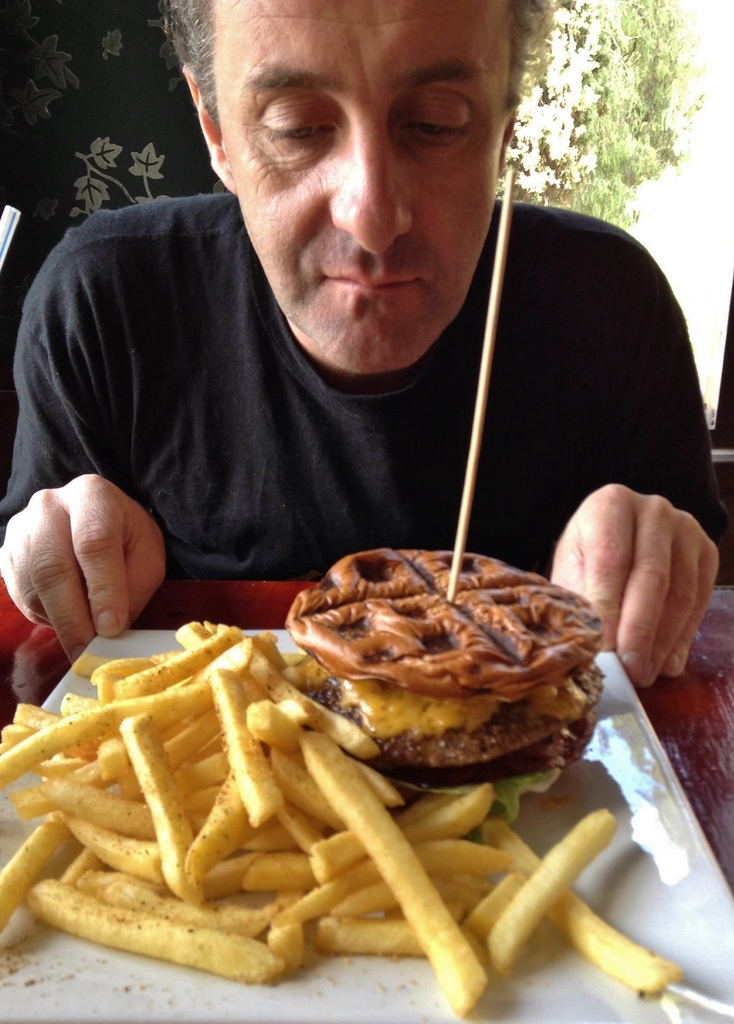French fries: (0, 602, 691, 1023)
